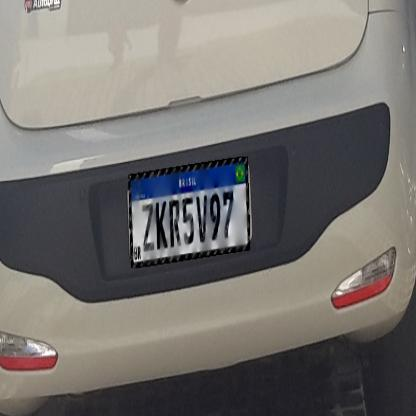PlacaM: (128, 156, 250, 268)
